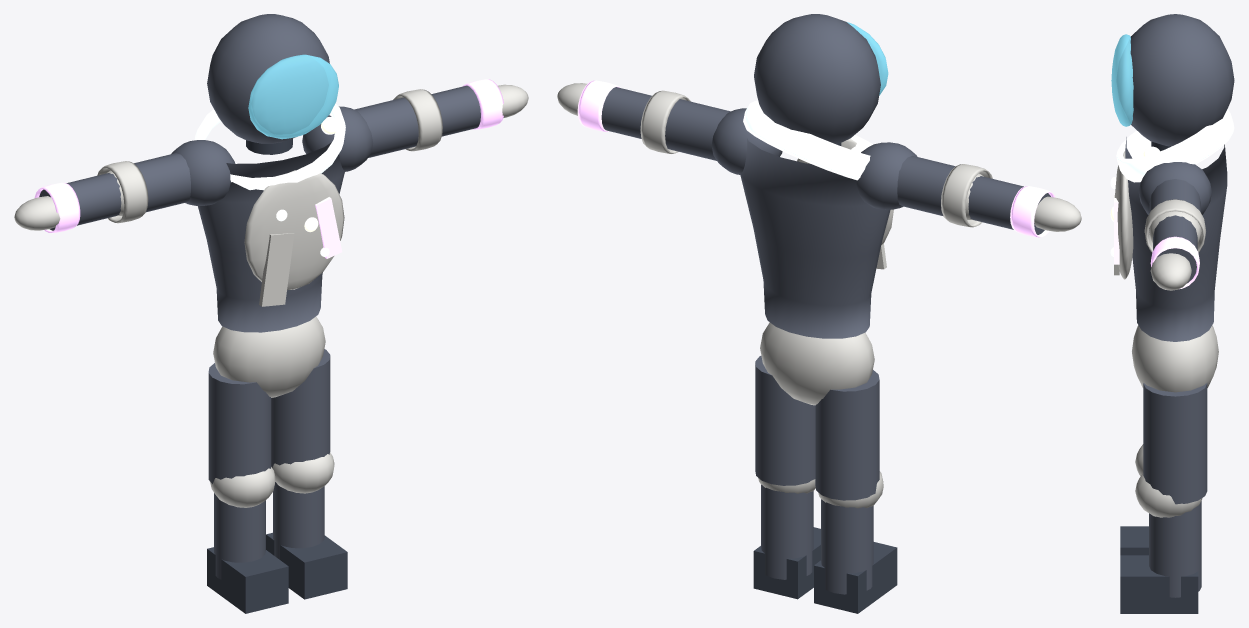
The model's file is original-player-e.glb.
3 views of the same model, side by side, from view 1: azimuth 30°, elevation 25°; view 2: azimuth 150°, elevation 25°; view 3: azimuth 270°, elevation 25° (orthographic).
Visible parts, largest first — view 1: TorsoShell, HelmetShell, NoctilucaPlate, UpperLeg_L, PelvisShell, VisorLens, UpperLeg_R, Boot_L, Boot_R, LowerLeg_L, LowerLeg_R, Shoulder_L (+16 smaller); view 2: TorsoShell, HelmetShell, UpperLeg_L, PelvisShell, UpperLeg_R, LowerLeg_L, LowerLeg_R, OrbitCollar, Boot_L, UpperArm_R, Shoulder_L, UpperArm_L (+9 smaller); view 3: HelmetShell, TorsoShell, UpperLeg_R, PelvisShell, LowerLeg_R, Boot_R, OrbitCollar, Shoulder_R, VisorLens, NoctilucaPlate, Knee_R, Forearm_R (+8 smaller).
Boxes of the visible parts, x1=… form: TorsoShell: x1=198, y1=142, x2=344, y2=332; HelmetShell: x1=207, y1=14, x2=329, y2=143; NoctilucaPlate: x1=244, y1=170, x2=344, y2=289; UpperLeg_L: x1=208, y1=363, x2=271, y2=483; PelvisShell: x1=213, y1=316, x2=325, y2=397; VisorLens: x1=248, y1=54, x2=338, y2=139; UpperLeg_R: x1=271, y1=349, x2=330, y2=467; Boot_L: x1=207, y1=547, x2=288, y2=613; Boot_R: x1=266, y1=532, x2=347, y2=599; LowerLeg_L: x1=214, y1=493, x2=265, y2=579; LowerLeg_R: x1=273, y1=482, x2=324, y2=559; Shoulder_L: x1=171, y1=140, x2=235, y2=205; TorsoShell: x1=740, y1=138, x2=890, y2=338; HelmetShell: x1=754, y1=14, x2=880, y2=143; UpperLeg_L: x1=815, y1=370, x2=879, y2=500; PelvisShell: x1=760, y1=322, x2=874, y2=405; UpperLeg_R: x1=755, y1=356, x2=815, y2=485; LowerLeg_L: x1=821, y1=499, x2=873, y2=594; LowerLeg_R: x1=761, y1=484, x2=813, y2=579; OrbitCollar: x1=743, y1=100, x2=873, y2=180; Boot_L: x1=814, y1=542, x2=897, y2=613; UpperArm_R: x1=665, y1=99, x2=730, y2=160; Shoulder_L: x1=856, y1=142, x2=917, y2=209; UpperArm_L: x1=897, y1=155, x2=955, y2=215; HelmetShell: x1=1130, y1=14, x2=1234, y2=146; TorsoShell: x1=1125, y1=137, x2=1227, y2=341; UpperLeg_R: x1=1143, y1=383, x2=1207, y2=504; PelvisShell: x1=1132, y1=325, x2=1218, y2=392; LowerLeg_R: x1=1149, y1=501, x2=1201, y2=597; Boot_R: x1=1120, y1=555, x2=1198, y2=613; OrbitCollar: x1=1116, y1=109, x2=1234, y2=182; Shoulder_R: x1=1138, y1=162, x2=1211, y2=214; VisorLens: x1=1111, y1=34, x2=1133, y2=126; NoctilucaPlate: x1=1115, y1=151, x2=1133, y2=279; Knee_R: x1=1135, y1=473, x2=1202, y2=517; Forearm_R: x1=1153, y1=215, x2=1197, y2=283.
Bounding box in the file's own units: 2.6 × 2.74 × 0.541.
